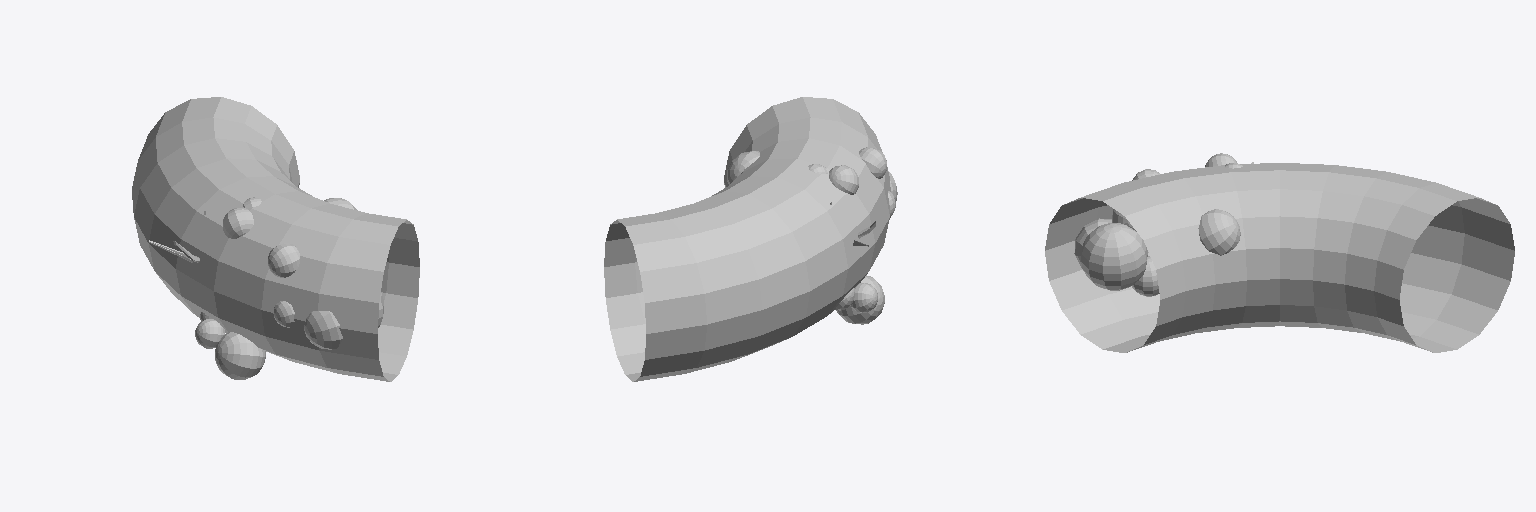
The picture shows the model from 3 angles: view 1: azimuth 30°, elevation 25°; view 2: azimuth 150°, elevation 25°; view 3: azimuth 270°, elevation 25°; orthographic projection.
Visible parts, largest first — view 1: lCurve_A; view 2: lCurve_A; view 3: lCurve_A.
Part boxes in pixels (bbox=[...]): lCurve_A: bbox=[132, 97, 419, 381]; lCurve_A: bbox=[604, 97, 897, 381]; lCurve_A: bbox=[1045, 153, 1514, 352].
Size of the model in its own units: 121 by 89.61 by 236.